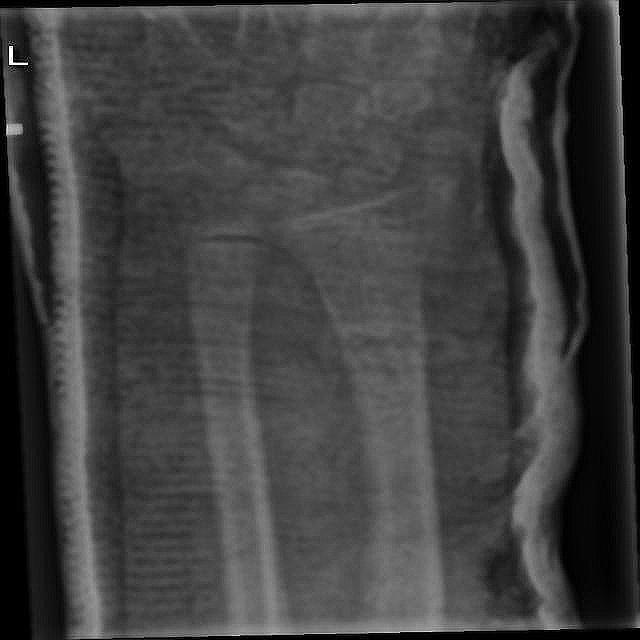bone: (325, 322, 442, 379), (182, 278, 263, 322)
